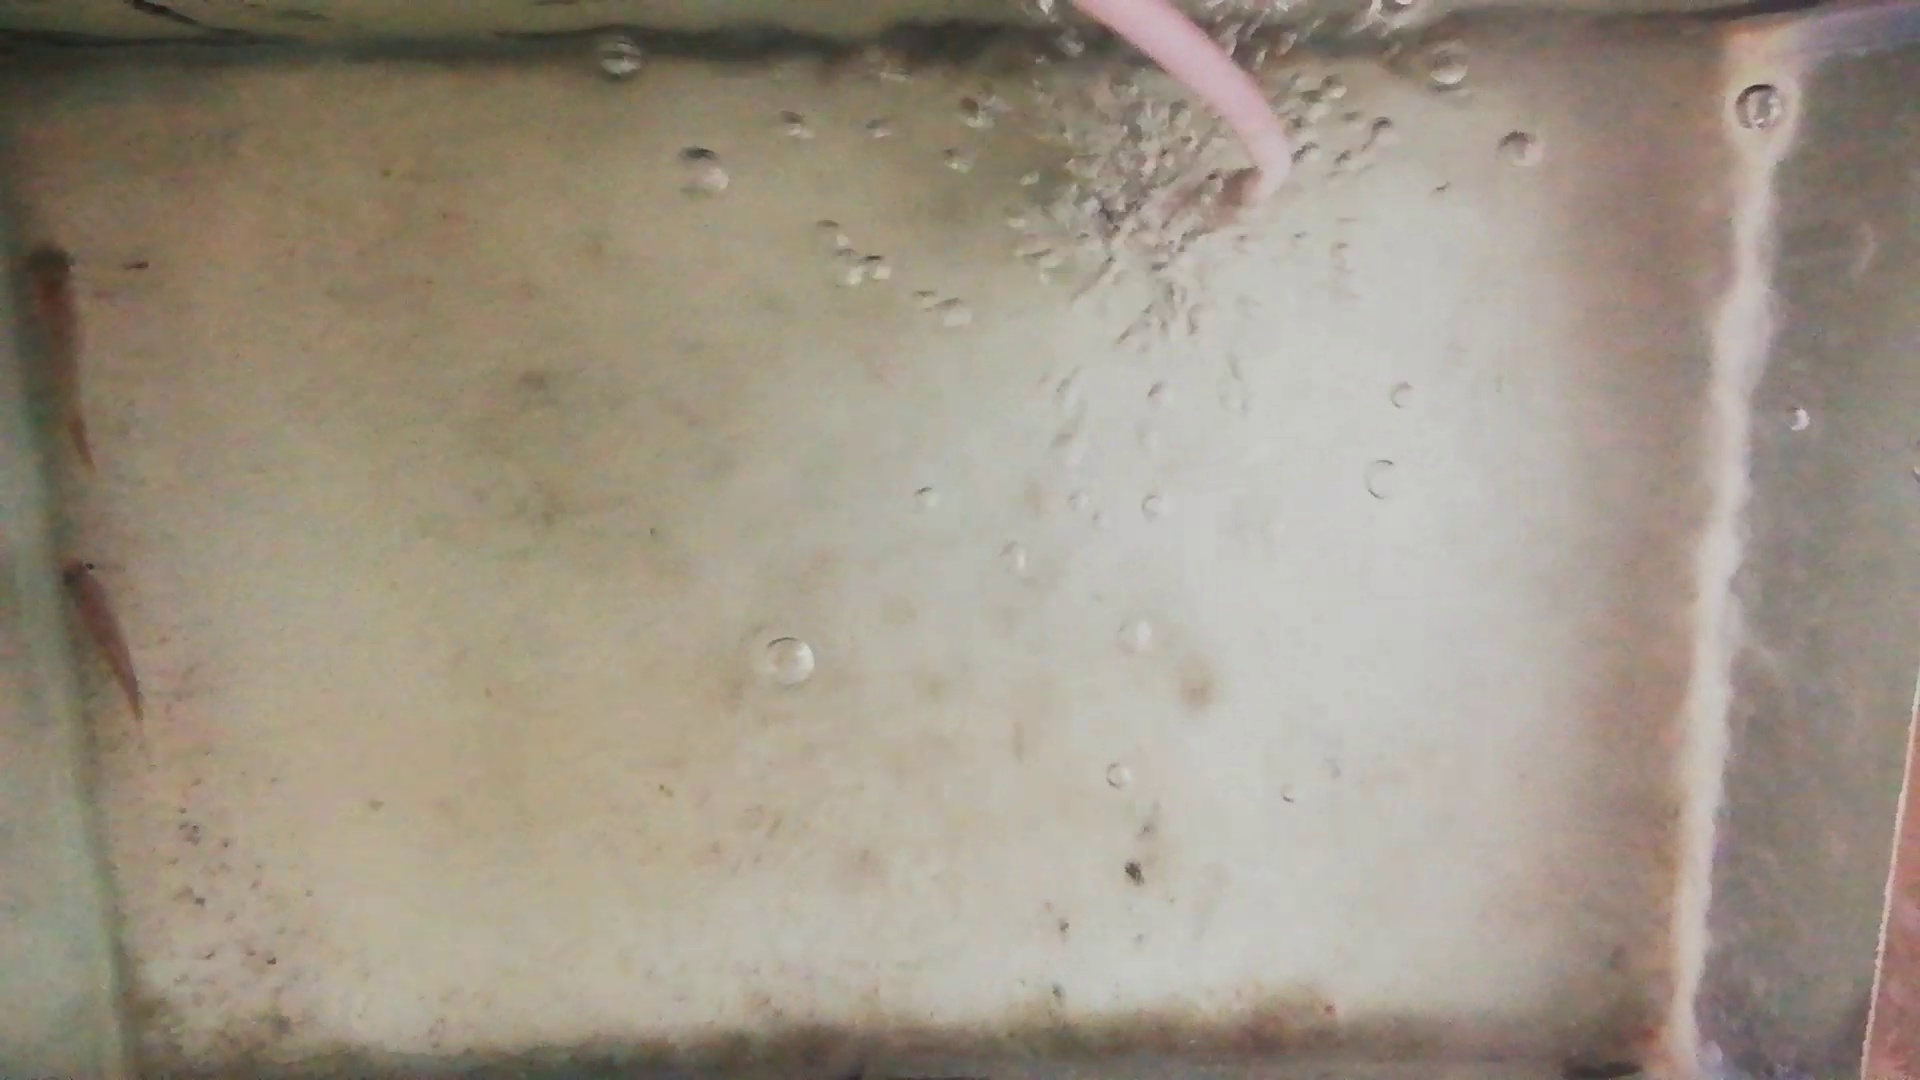fish: (26, 237, 98, 465), (57, 556, 142, 721)
